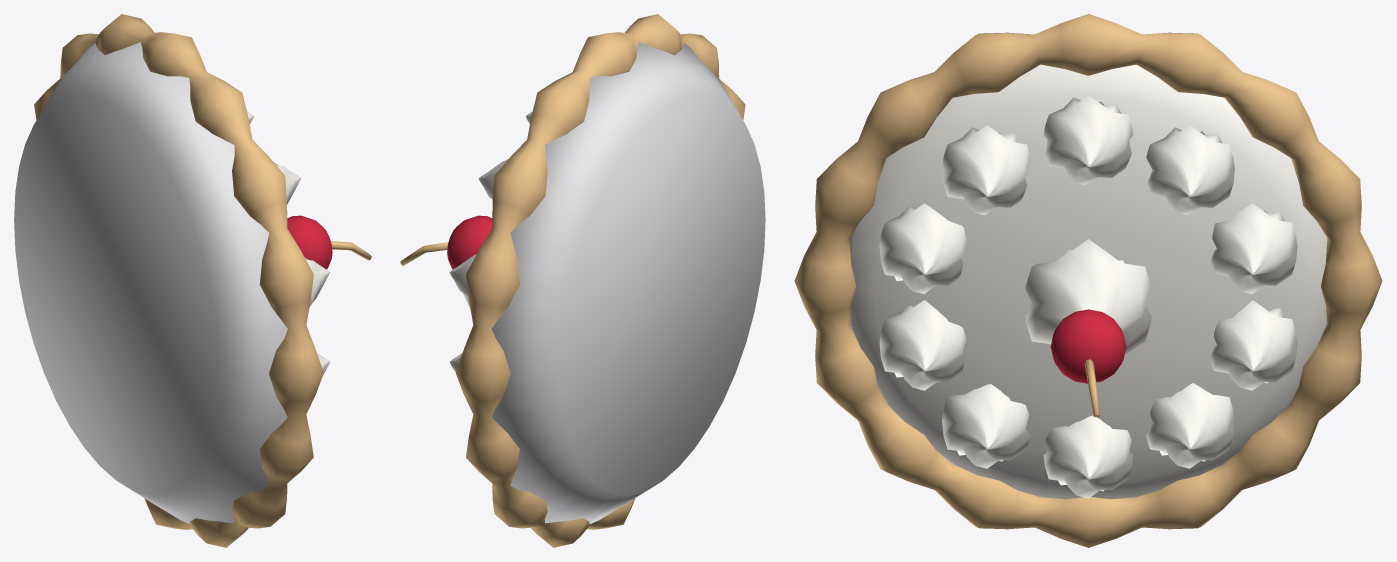
File: pie.glb
The picture shows the model from 3 angles, left to right: view 1: azimuth 30°, elevation 25°; view 2: azimuth 150°, elevation 25°; view 3: azimuth 270°, elevation 25°; orthographic projection. The views are drawn at different scales.
Parts seen in each view (by area): view 1: Pie; view 2: Pie; view 3: Pie.
Part boxes in pixels (left/top/right/bottom): Pie: left=14, top=14, right=371, bottom=547; Pie: left=400, top=14, right=765, bottom=547; Pie: left=794, top=14, right=1382, bottom=547.
Bounding box in the file's own units: 0.1529 × 0.28 × 0.28.
